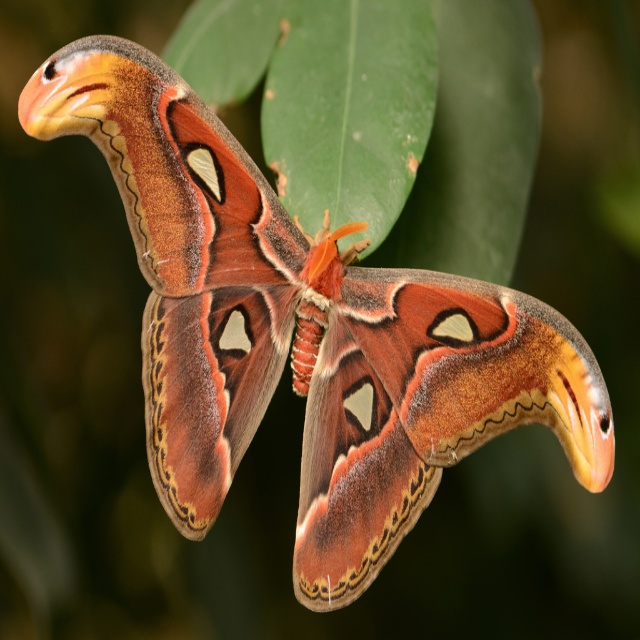Butterfly: (17, 32, 616, 612)
